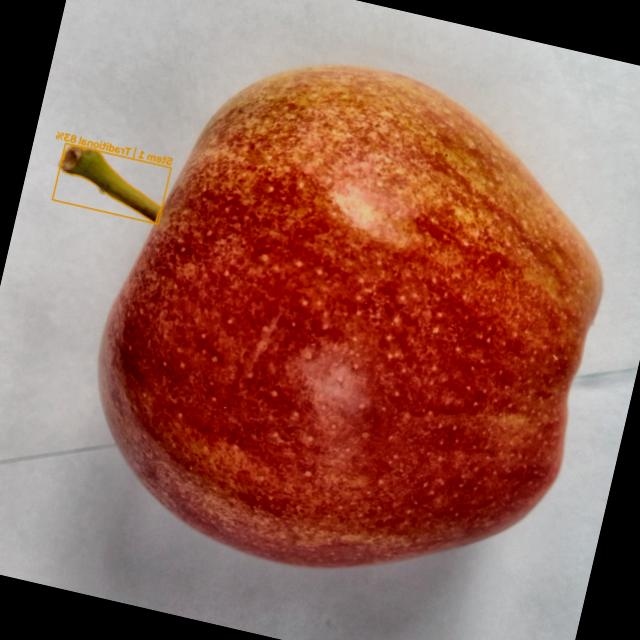Fruit-Stem-Detection: (35, 117, 192, 241), (63, 147, 150, 218)
